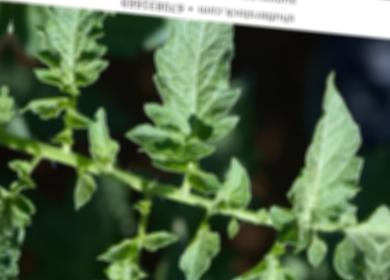Tomato leaf mosaic virus: (280, 63, 372, 231), (146, 18, 253, 155), (175, 213, 227, 280), (209, 152, 258, 220), (82, 102, 125, 173), (188, 165, 225, 195)
